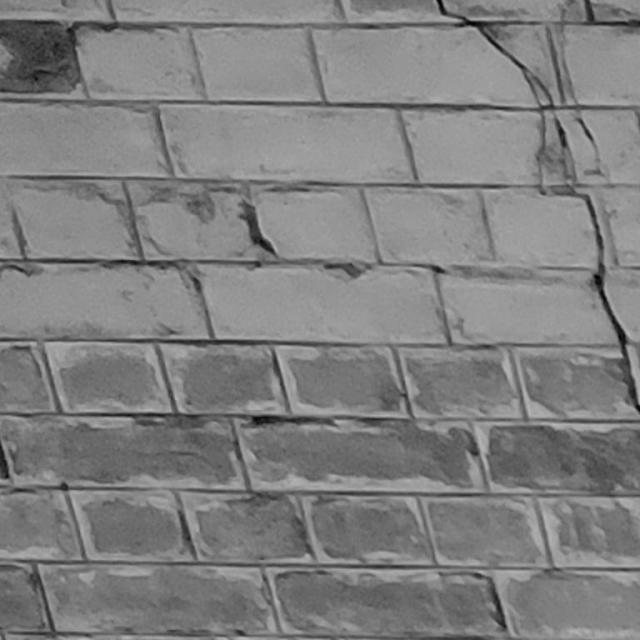crack: (437, 1, 639, 412)
